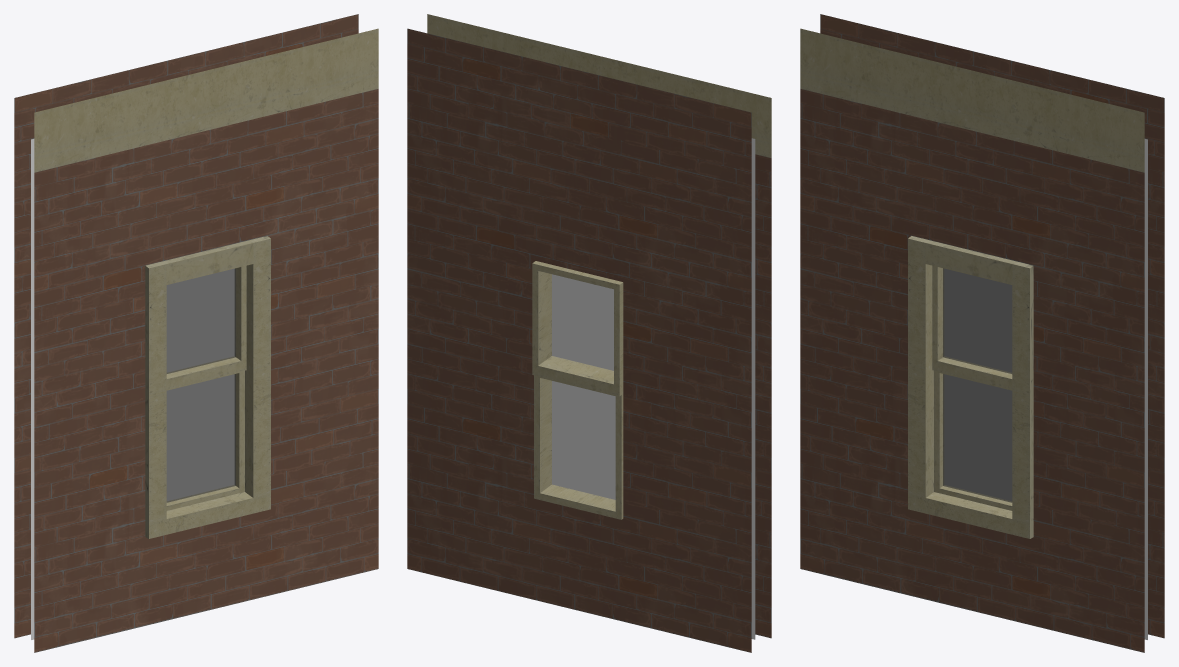
The model's file is Brick_Window_Square_Single.gltf.
3 renders of one model, left to right at view 1: azimuth 30°, elevation 25°; view 2: azimuth 150°, elevation 25°; view 3: azimuth 330°, elevation 25°, orthographic.
Visible parts, largest first — view 1: Brick_Window_Square_Single; view 2: Brick_Window_Square_Single; view 3: Brick_Window_Square_Single.
Part boxes in pixels (<box>): Brick_Window_Square_Single: <box>14,14,378,652</box>; Brick_Window_Square_Single: <box>407,14,771,652</box>; Brick_Window_Square_Single: <box>800,14,1164,652</box>.
Size of the model in its own units: 2 by 3 by 0.271.
5 materials, 3 textured.
